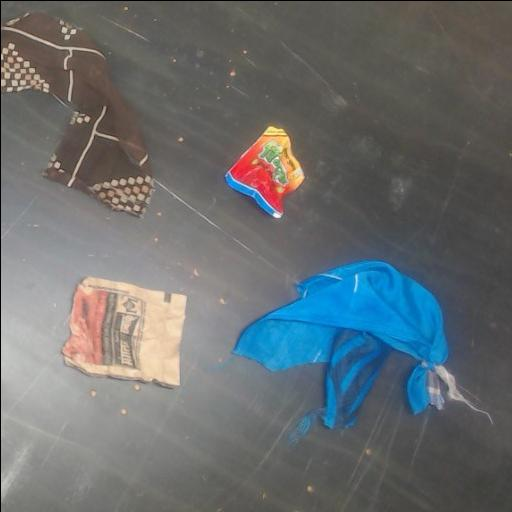cloth: (1, 13, 152, 216)
conveyor belt: (1, 1, 512, 512)
packet: (233, 260, 447, 427), (62, 277, 184, 385), (226, 126, 304, 216)
